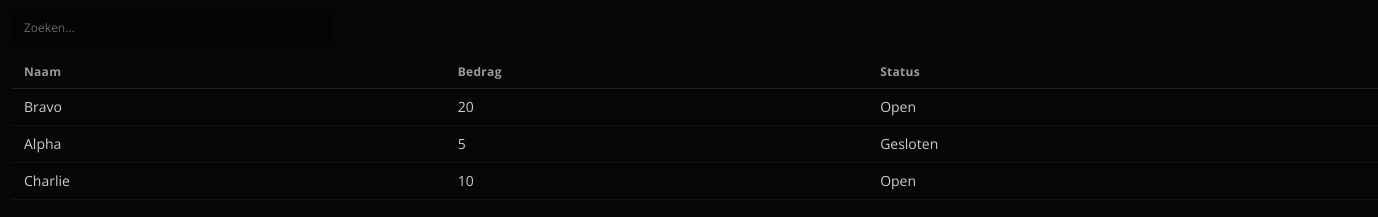
Test: DataTable › shows the emptyLabel when no rows match the current search
In the field with test id "data-table-search": (172, 28) left=12, top=12, right=332, bottom=44, type "zzz"
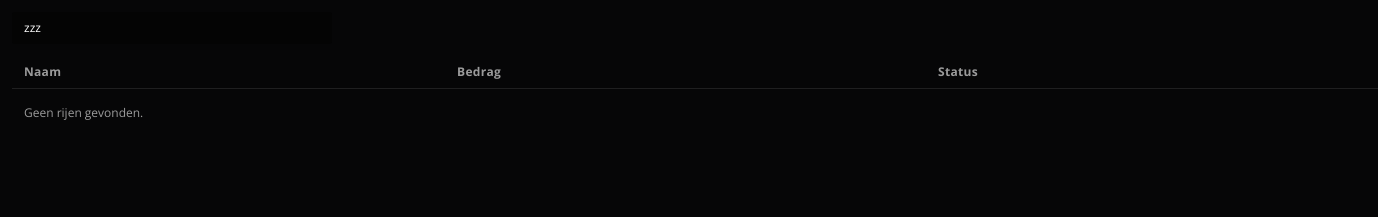
Expected: the text with test id "data-table-empty" reads "Geen rijen gevonden.", left=24, top=104, right=143, bottom=121
